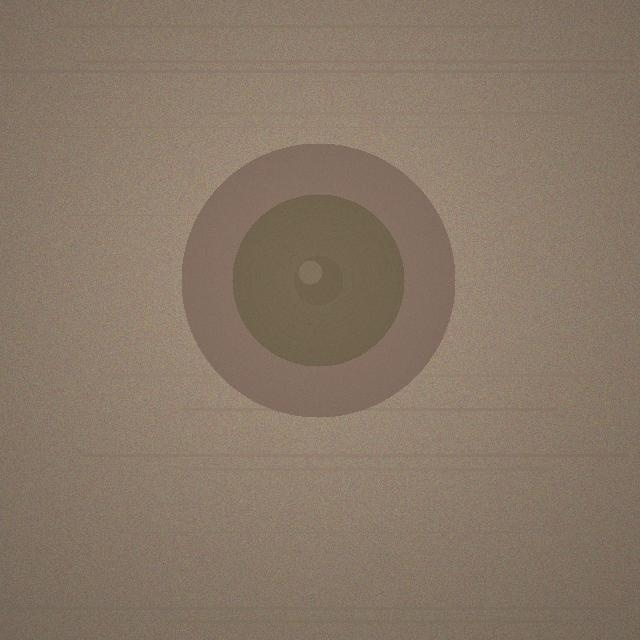good: (181, 143, 455, 417)
